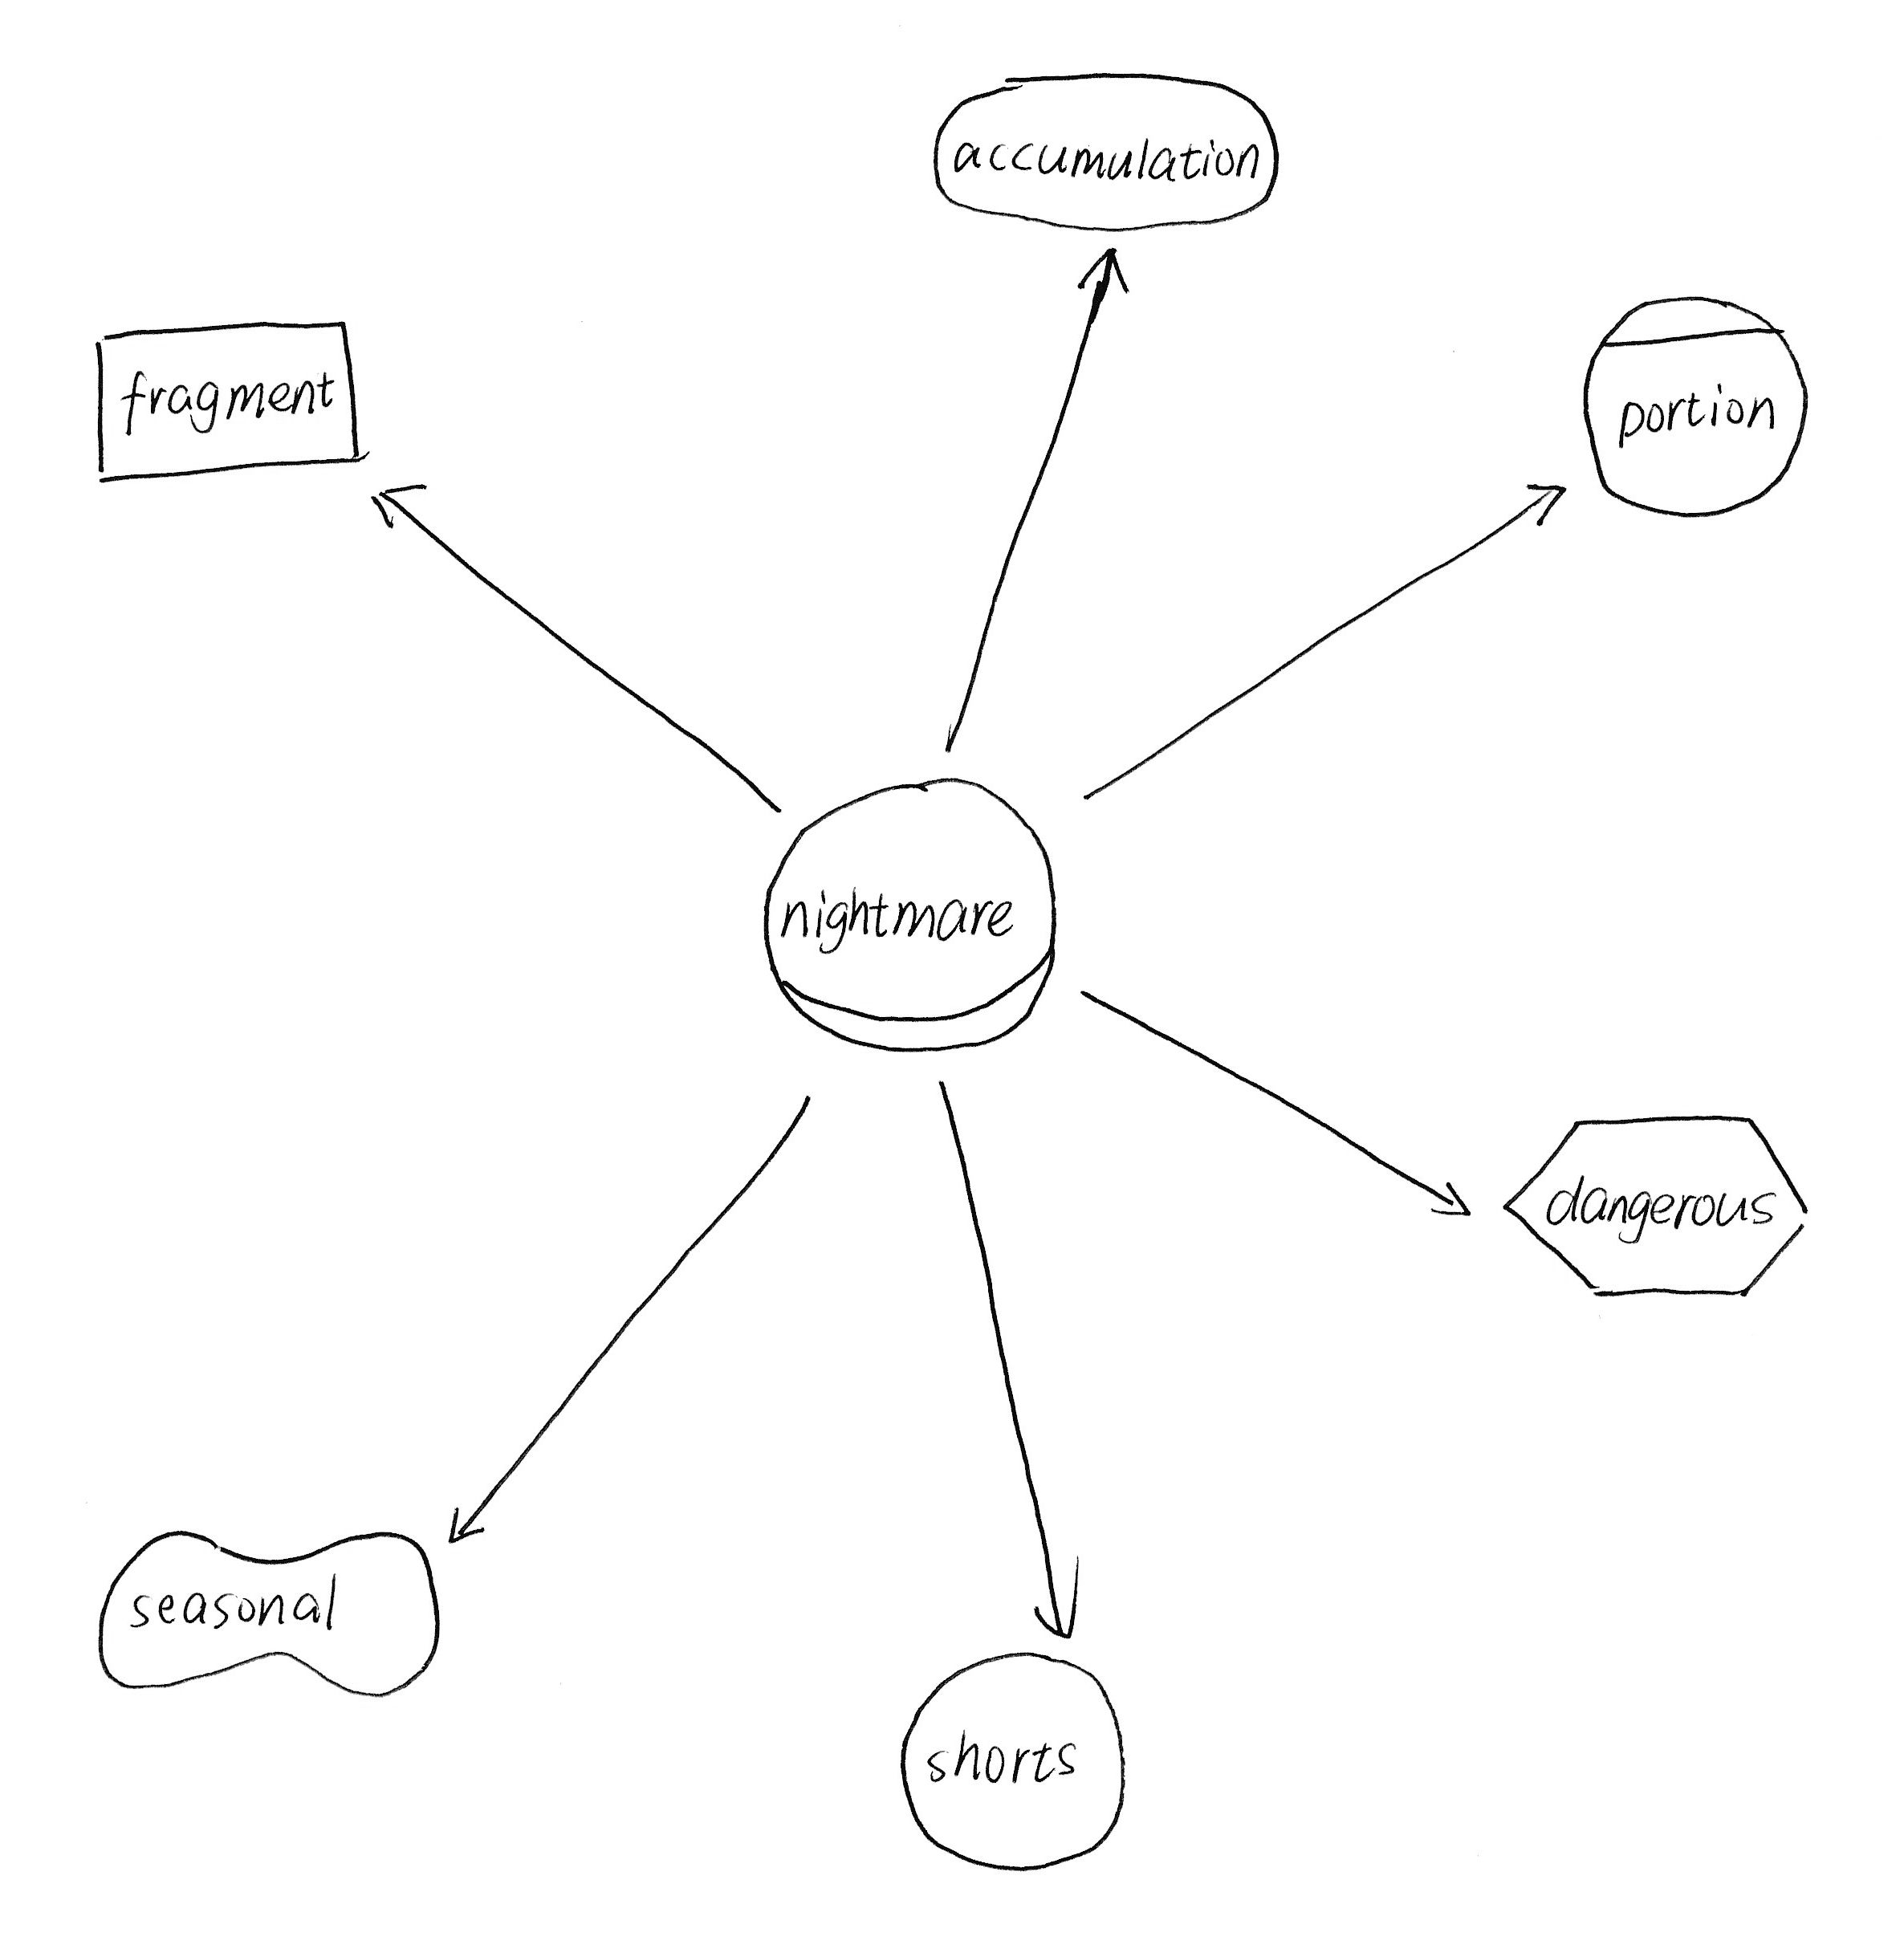actor: (884, 1637, 1142, 1881)
agent: (1564, 272, 1820, 532)
arrow: (1018, 1541, 1109, 1647), (356, 465, 439, 544), (1064, 237, 1140, 317), (1513, 455, 1580, 546), (1421, 1158, 1487, 1246), (438, 1491, 495, 1557)
goal: (919, 52, 1301, 249)
quality: (78, 1511, 462, 1708)
resource: (73, 302, 380, 511)
role: (746, 762, 1074, 1072)
task: (1486, 1097, 1827, 1316)
